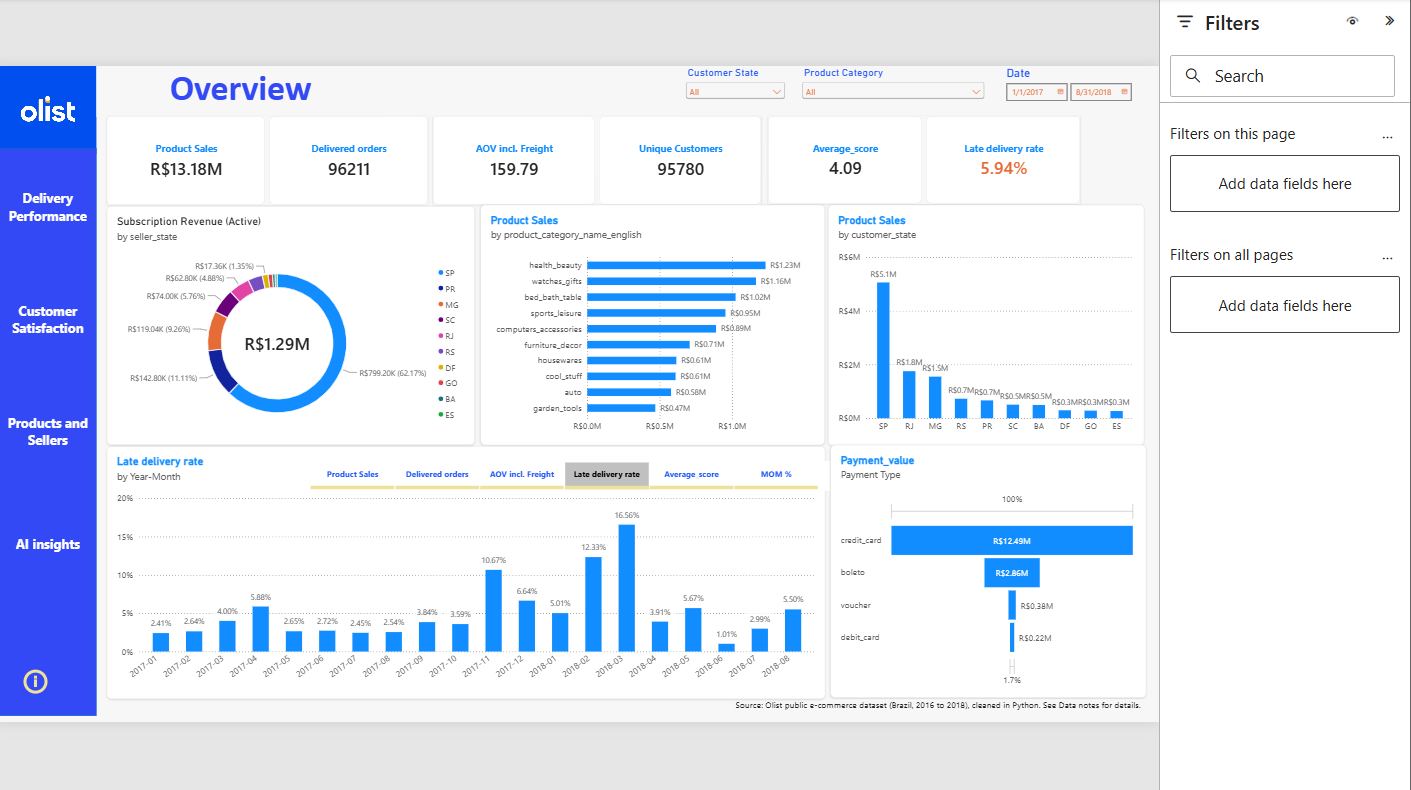

The page's visual inventory and layout, read from the dashboard file:
{"tool":"powerbi","page":{"name":"Overview","canvas":[1920,1080],"ordinal":0},"visuals":[{"type":"image","box":[10,0,160,144],"z":0},{"type":"shape","box":[10,136,160,934],"z":1000},{"type":"textbox","box":[171.1,0,473.7,82.9],"z":2000},{"type":"actionButton","box":[10,962,119.4,105],"z":3000},{"type":"cardVisual","title":"Card 1","fields":{"Data":["order_items.Product Sales","order_items.Delivered orders"]},"box":[186.7,81.7,528.5,146.5],"z":4000},{"type":"cardVisual","title":"Card 2","fields":{"Data":["order_items.AOV incl. Freight","customers.Unique Customers"]},"box":[725,81.7,540.7,146.5],"z":5000},{"type":"cardVisual","title":"Card 3","fields":{"Data":["reviews.Average_score","order_items.Late delivery rate"]},"box":[1276.7,83.3,514.5,144.8],"z":6000},{"type":"clusteredBarChart","fields":{"Category":["products.product_category_name_english"],"Y":["order_items.Product Sales"]},"box":[803.3,228.3,567.4,396.2],"z":7000},{"type":"clusteredColumnChart","fields":{"Category":["customers.customer_state"],"Y":["order_items.Product Sales"]},"box":[1375,228.3,520.7,396.7],"z":8000},{"type":"lineStackedColumnComboChart","fields":{"Category":["Calendar.Year-Month"],"Y":["order_items.Late delivery rate"]},"box":[186.7,625,1183.3,416.7],"z":9000},{"type":"slicer","title":"Date","fields":{"Values":["Calendar.Date"]},"box":[1660.6,0,237.7,142.3],"z":10000},{"type":"slicer","title":"Customer State","fields":{"Values":["customers.customer_state"]},"box":[1136.5,0,172.9,81.1],"z":11000},{"type":"slicer","title":"Product Category","fields":{"Values":["products.product_category_name_english"]},"box":[1327.4,0,309.8,68.4],"z":12000},{"type":"funnel","title":"Payment_value","fields":{"Category":["payments.payment_type"],"Y":["Sum(payments.payment_value)"]},"box":[1378.3,623.3,520,416.7],"z":13000},{"type":"pageNavigator","box":[10,144,160,734],"z":14000},{"type":"slicer","title":"Parameter Slicer","fields":{"Values":["Performances.Performances"]},"box":[503,651.1,866.1,48],"z":15000},{"type":"donutChart","fields":{"Category":["sellers.seller_state"],"Y":["order_items.Subscription Revenue (Active)"]},"box":[186.7,230,606.6,393.9],"z":18000},{"type":"textbox","box":[1222.5,1042.5,672.5,25],"z":20000}]}

Visuals, with their boxes on the page's 1920x1080 design canvas (x1, y1, x2, y2). These are canvas units, not pixel positions in the 1411x790 screenshot, which may show the page scaled, cropped or inside an application window:
image: 10 0 170 144
shape: 10 136 170 1070
textbox: 171 0 645 83
actionButton: 10 962 129 1067
"Card 1" cardVisual: 187 82 715 228
"Card 2" cardVisual: 725 82 1266 228
"Card 3" cardVisual: 1277 83 1791 228
clusteredBarChart - products.product_category_name_english x order_items.Product Sales: 803 228 1371 624
clusteredColumnChart - customers.customer_state x order_items.Product Sales: 1375 228 1896 625
lineStackedColumnComboChart - Calendar.Year-Month x order_items.Late delivery rate: 187 625 1370 1042
"Date" slicer: 1661 0 1898 142
"Customer State" slicer: 1136 0 1309 81
"Product Category" slicer: 1327 0 1637 68
"Payment_value" funnel: 1378 623 1898 1040
pageNavigator: 10 144 170 878
"Parameter Slicer" slicer: 503 651 1369 699
donutChart - sellers.seller_state x order_items.Subscription Revenue (Active): 187 230 793 624
textbox: 1222 1042 1895 1068
